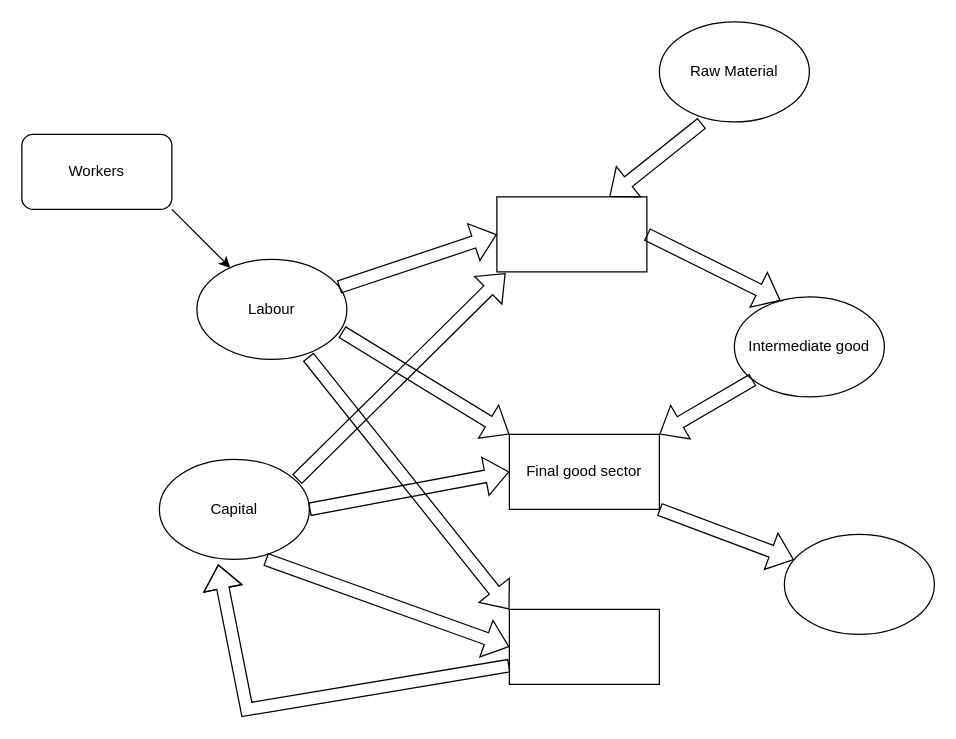
Some shapes in this 956 by 739 pixel diagram are drawn without their labels. The shapes that lost their labels are listed below. From the top down, each one's centre as x and y in pixels, then its label:
(x=571, y=234): Mining sector
(x=858, y=583): Final good
(x=583, y=646): Investment sector
